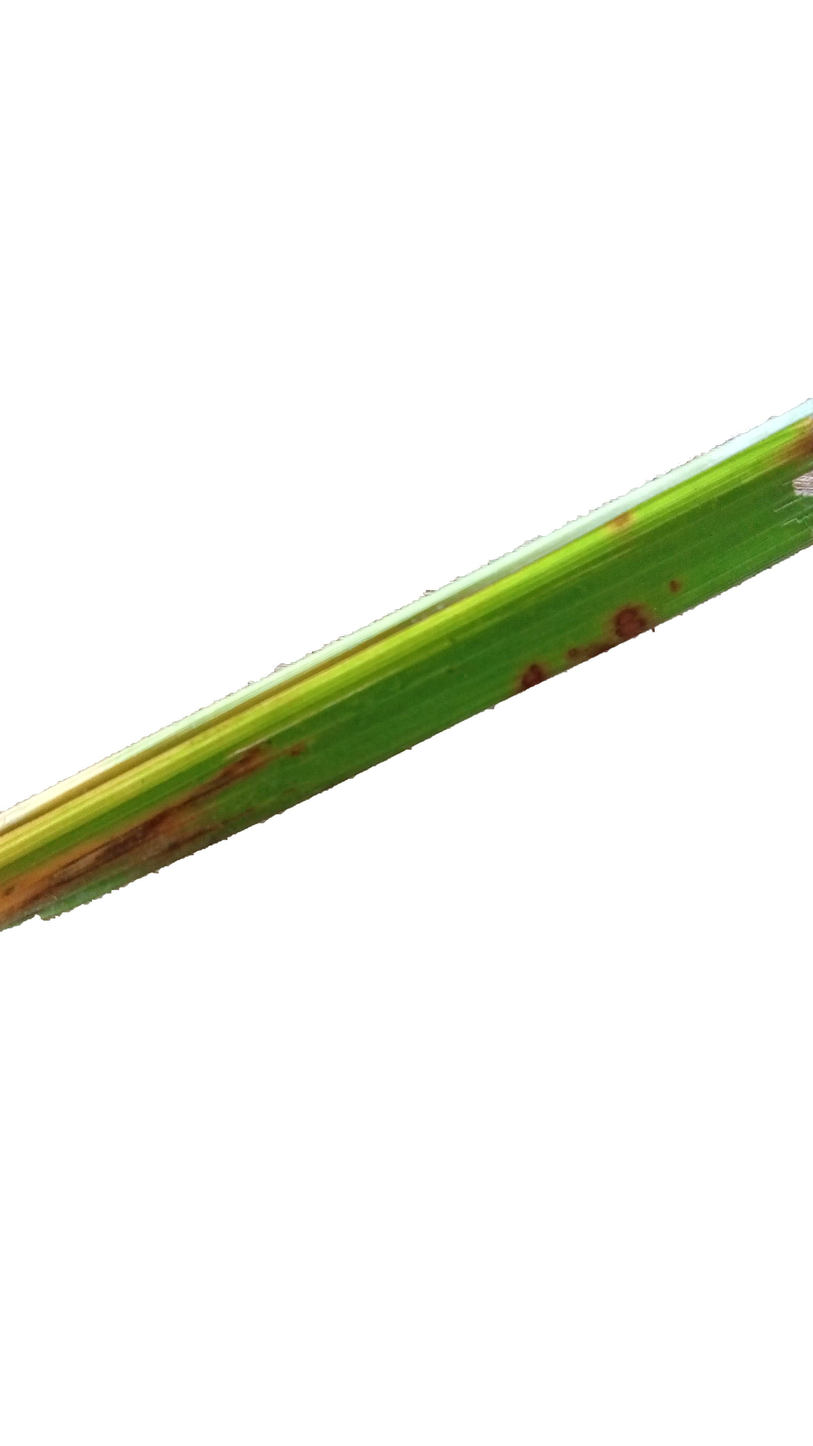Rice blast: (0, 679, 367, 939), (498, 580, 679, 697)
